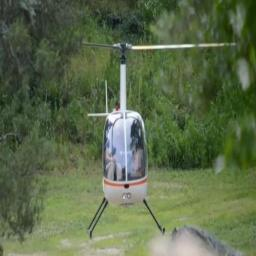helicopter: (82, 43, 235, 239)
